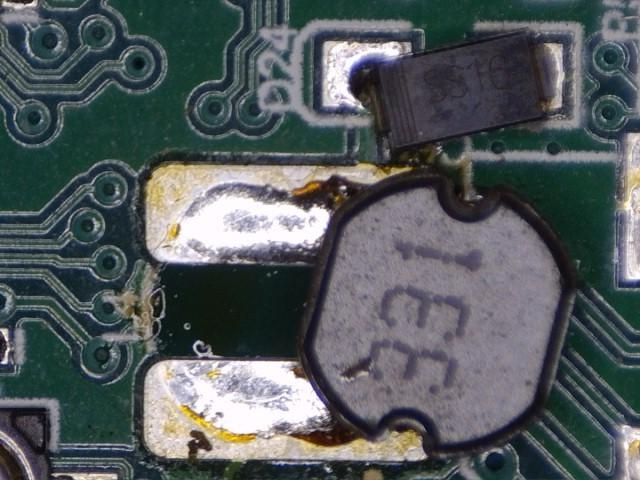pcb_defect: (140, 162, 581, 462), (315, 25, 568, 153)
